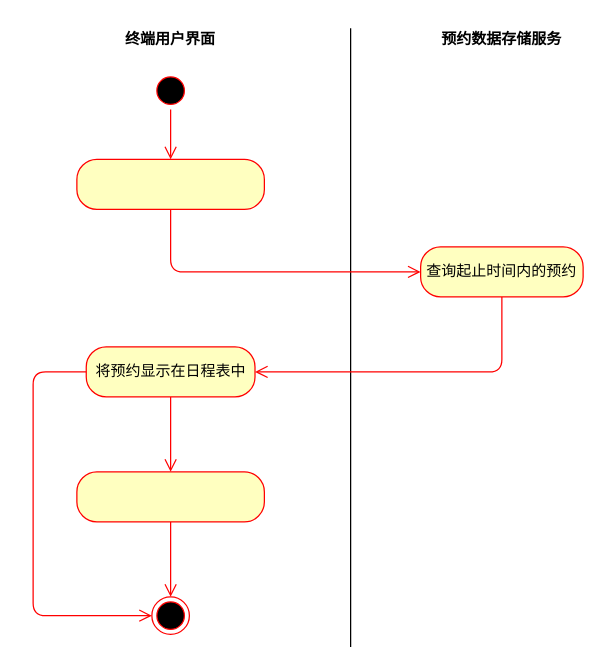
Image size: 605x669. Some labels were removed from this diagram. The shapes that lost their labels are listed below. From the top down, each one's box as (x1, y1, x2, y2) in pixels, then its label:
(76, 158, 264, 209): 获取待查询日程的起止时间
(76, 471, 264, 522): 将日程表按条件过滤显示
